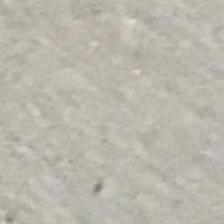Non_Crack: (19, 28, 223, 224)
